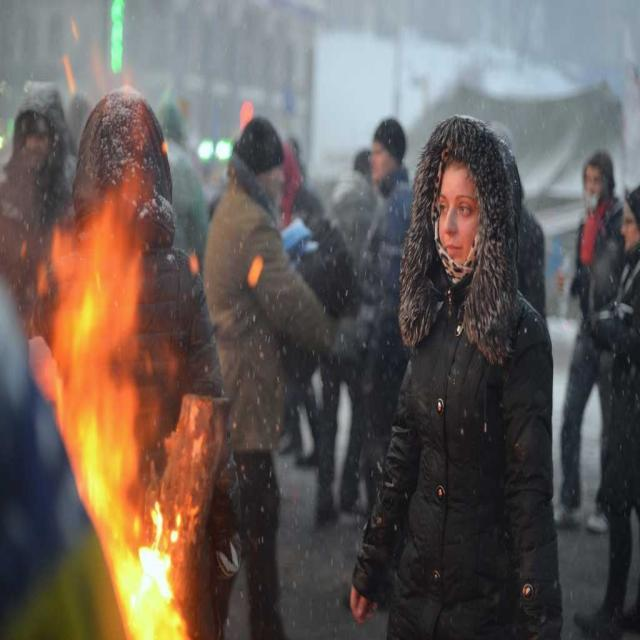Fire: (48, 210, 194, 632)
